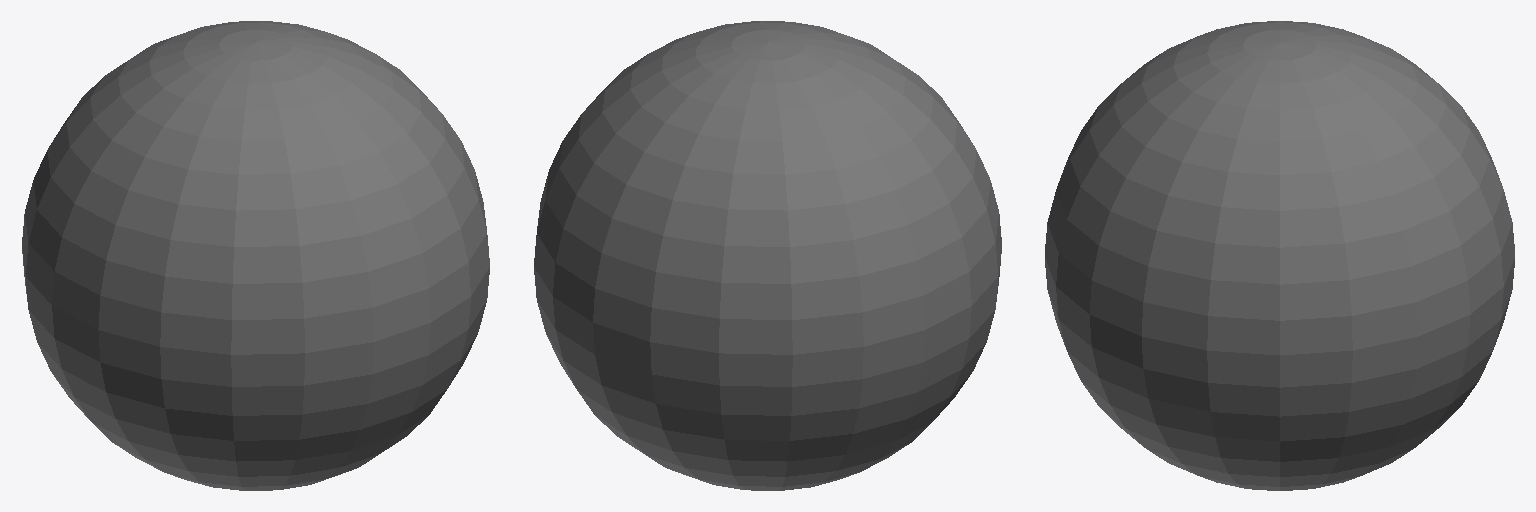
Rendered from Rock.obj.
3 renders of one model, left to right at view 1: azimuth 30°, elevation 25°; view 2: azimuth 150°, elevation 25°; view 3: azimuth 270°, elevation 25°, orthographic.
Parts seen in each view (by area): view 1: pSphere1; view 2: pSphere1; view 3: pSphere1.
Boxes of the visible parts, box(x1,y1,x2,y2) form: pSphere1: box(22, 21, 489, 490); pSphere1: box(534, 21, 1001, 490); pSphere1: box(1045, 21, 1514, 490).
Bounding box in the file's own units: 0.5 × 0.5 × 0.5.